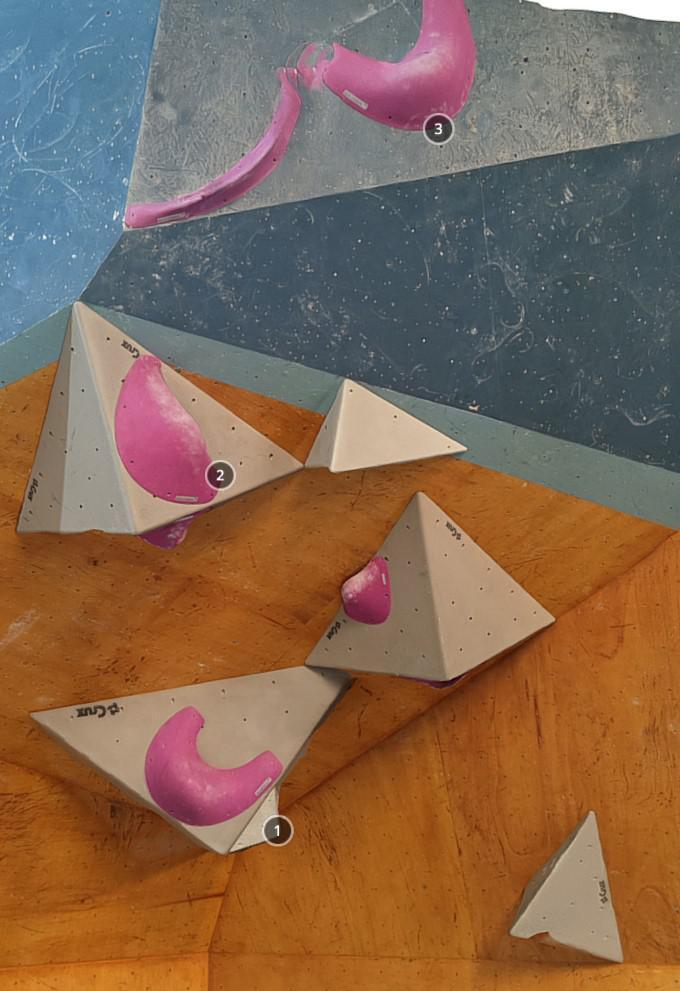hold: (125, 66, 302, 228), (322, 0, 477, 130), (144, 706, 283, 826), (115, 355, 221, 504), (340, 556, 392, 625), (137, 505, 215, 551), (402, 671, 468, 689)
volume: (16, 301, 304, 535), (30, 666, 354, 856), (305, 491, 556, 682), (509, 810, 624, 963), (304, 378, 468, 473), (230, 786, 280, 852)
